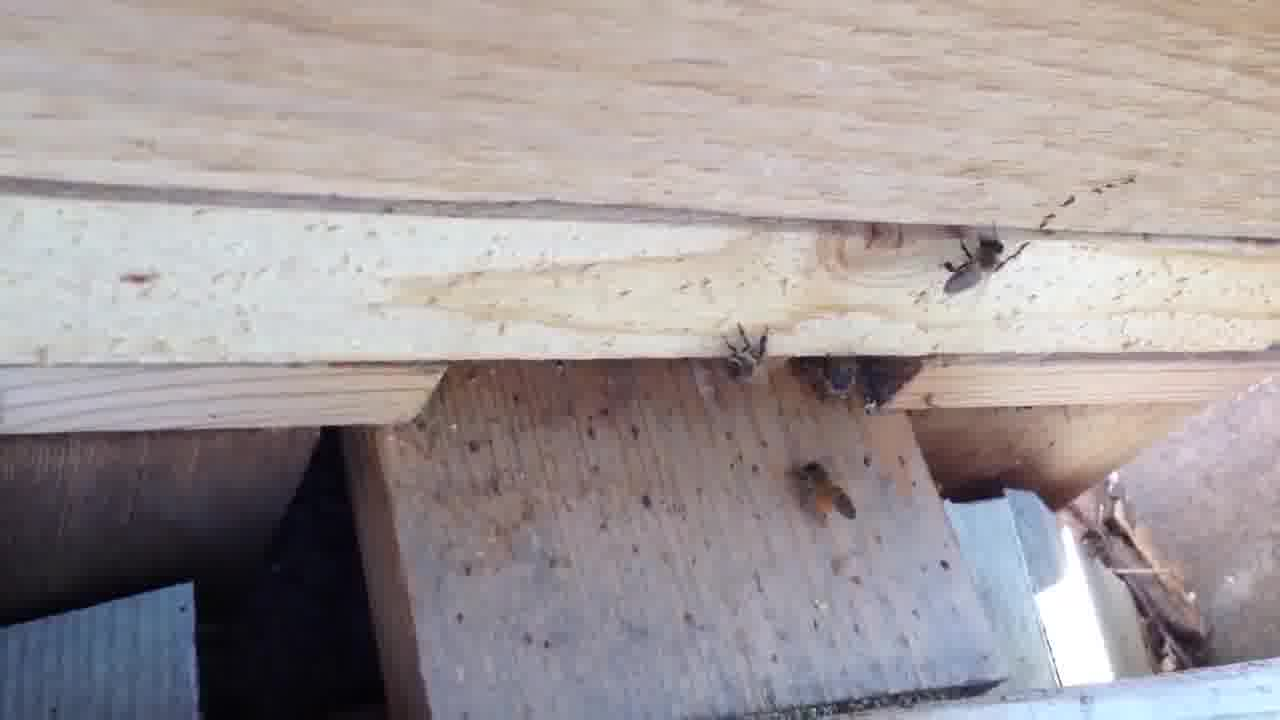pollen: (785, 457, 868, 527)
